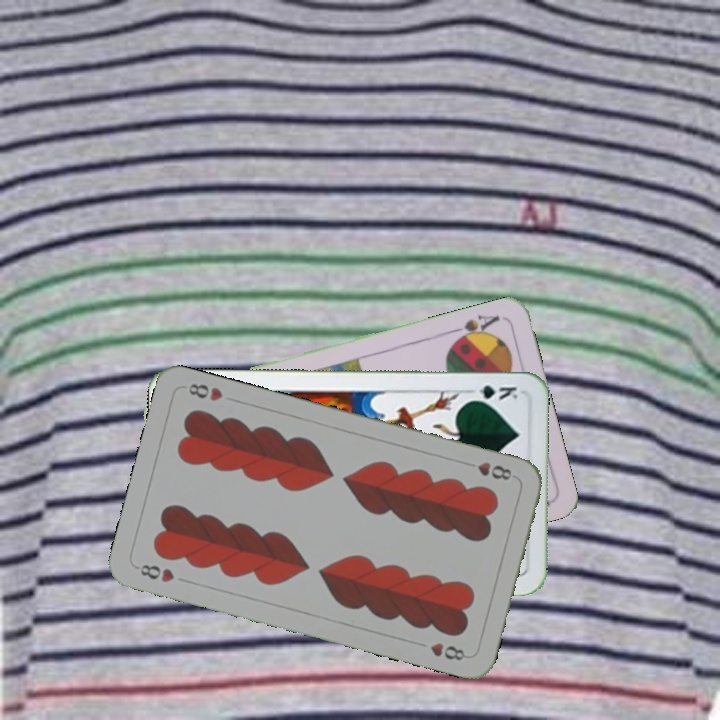GK: (463, 381, 520, 403)
H8: (460, 458, 514, 483), (132, 560, 177, 585)
SA: (446, 311, 503, 346)
